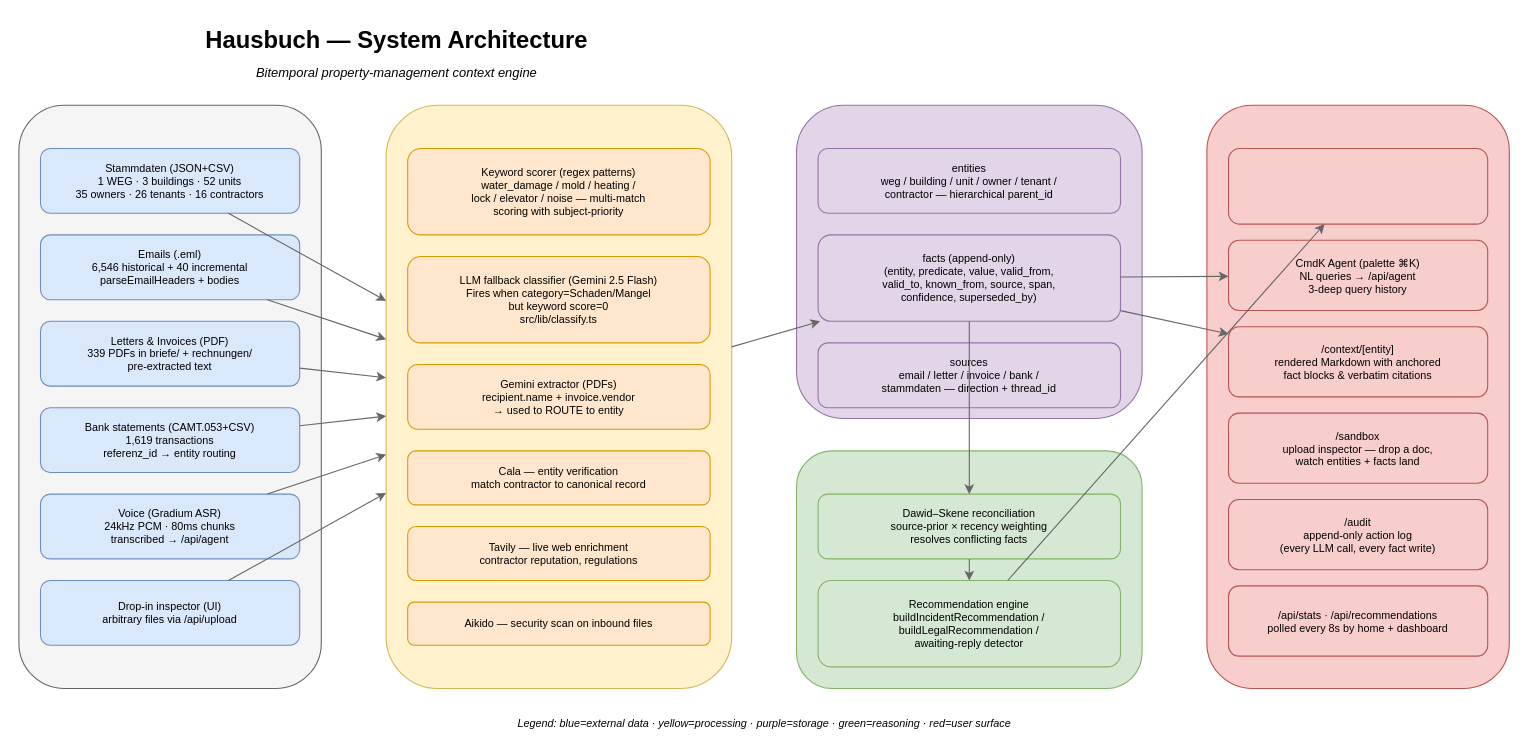
Some shapes in this 1528 by 750 pixel diagram are drawn without their labels. The shapes that lost their labels are listed below. From the top down, each one's box as (x1, y1, x2, y2) in pixels, then its label:
(1227, 147, 1488, 224): /dashboard triage view: severity-grouped recs, collapsed rows for awaiting-reply
(795, 104, 1142, 418): BITEMPORAL FACT STORE (SQLite)
(18, 104, 321, 688): DATA SOURCES
(385, 104, 732, 688): INGESTION & EXTRACTION
(1206, 104, 1509, 688): UI & API SURFACE
(795, 450, 1142, 688): RECONCILIATION & RECOMMENDATIONS
